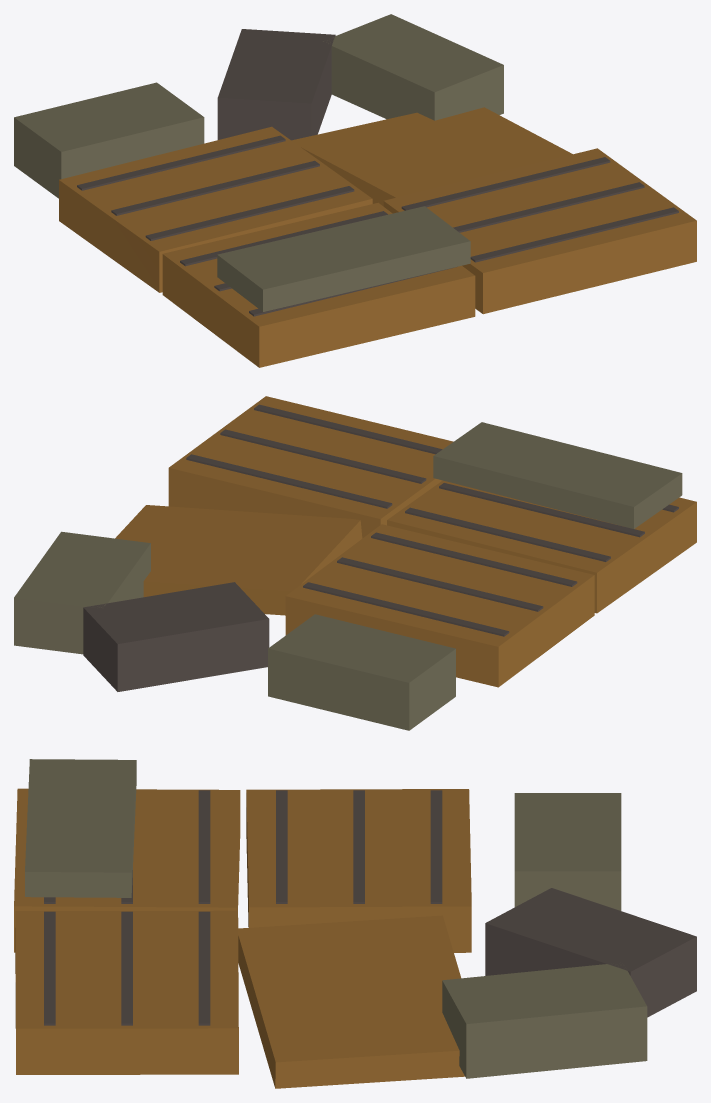
File: SM_BanquetaCorta_v3_LOD0.fbx
The picture shows the model from 3 angles, top to bottom: view 1: azimuth 30°, elevation 25°; view 2: azimuth 150°, elevation 25°; view 3: azimuth 270°, elevation 25°; orthographic projection. The views are drawn at different scales.
Parts seen in each view (by area): view 1: SM_banqueta_tiro_v13_LOD0; view 2: SM_banqueta_tiro_v13_LOD0; view 3: SM_banqueta_tiro_v13_LOD0.
Part boxes in pixels (bbox=[...]): SM_banqueta_tiro_v13_LOD0: bbox=[14, 14, 696, 367]; SM_banqueta_tiro_v13_LOD0: bbox=[14, 396, 696, 730]; SM_banqueta_tiro_v13_LOD0: bbox=[14, 759, 696, 1088].
Bounding box in the file's own units: 2.49 × 0.4416 × 2.94.
